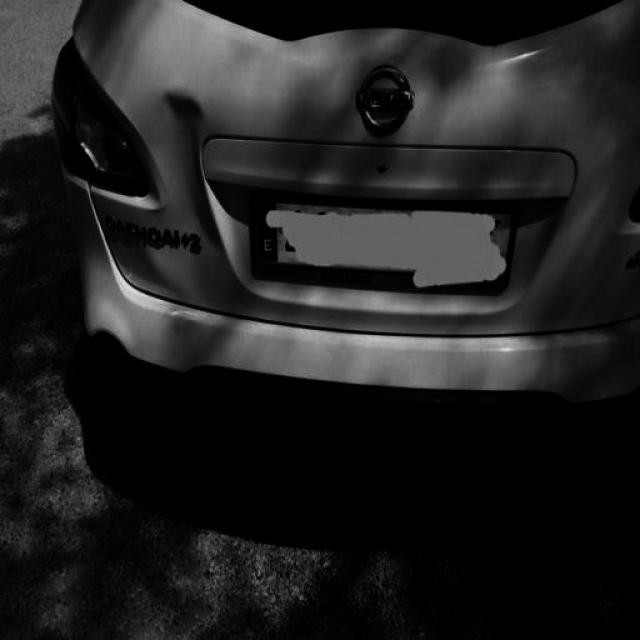car damage: (161, 87, 209, 196)
